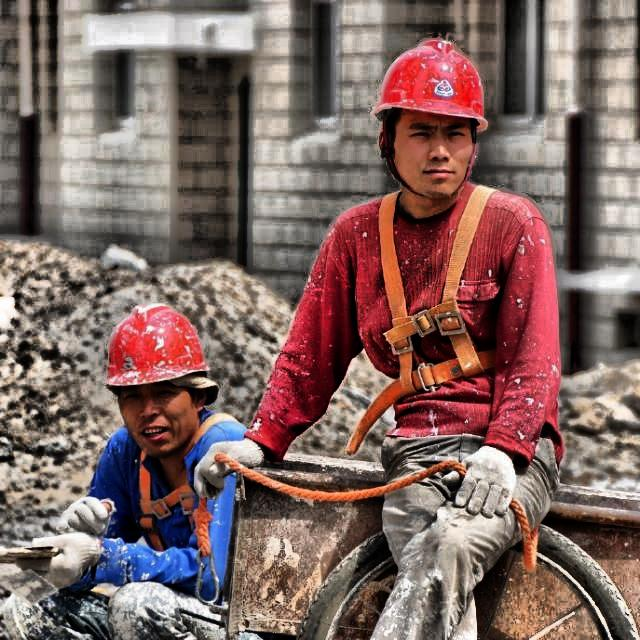person: (282, 31, 588, 634), (44, 297, 242, 627)
